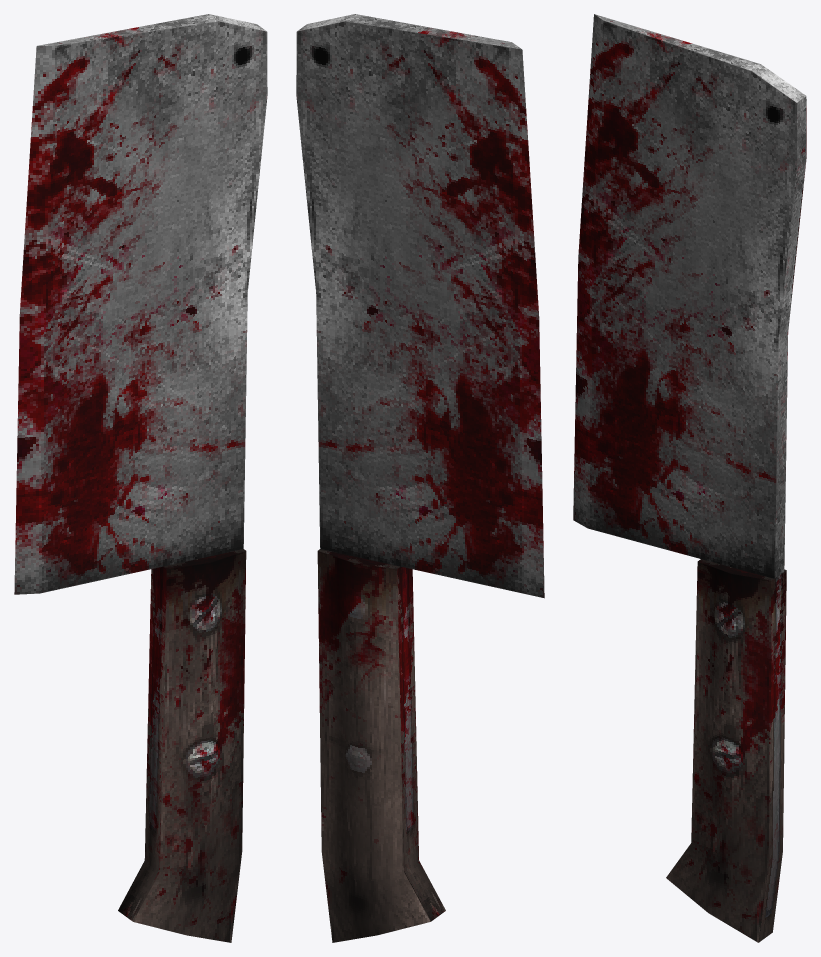
The model's file is cleaver_blood.glb.
3 views of the same model, side by side, from view 1: azimuth 30°, elevation 25°; view 2: azimuth 150°, elevation 25°; view 3: azimuth 330°, elevation 25° (orthographic). The views are drawn at different scales.
Parts seen in each view (by area): view 1: cleaver_blood; view 2: cleaver_blood; view 3: cleaver_blood.
Boxes of the visible parts, left/top/right/bottom form: cleaver_blood: left=14, top=14, right=267, bottom=942; cleaver_blood: left=296, top=14, right=544, bottom=942; cleaver_blood: left=573, top=14, right=806, bottom=942.
Bounding box in the file's own units: 0.0887 × 0.3225 × 0.0145.
Materials: 1 (1 with a texture image).
